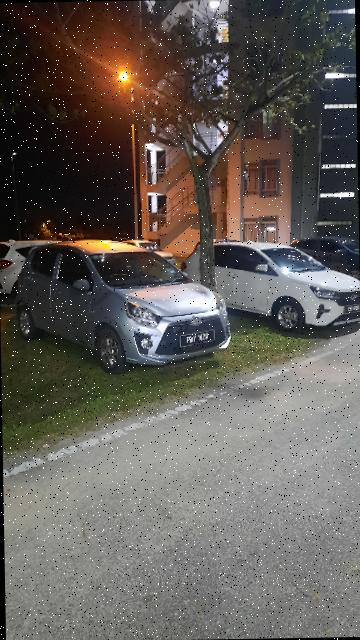License_Plate: (177, 327, 221, 350), (341, 300, 360, 316)
car: (15, 230, 232, 376), (180, 235, 360, 332)
